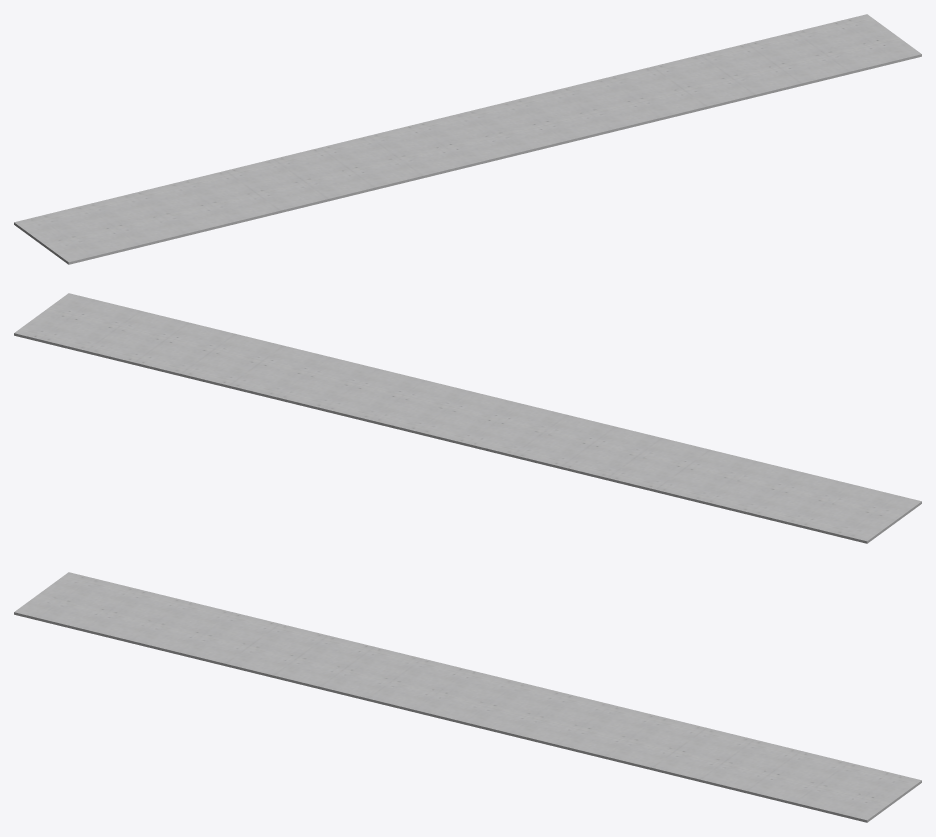
The model's file is tenzyou2.fbx.
The picture shows the model from 3 angles, top to bottom: view 1: azimuth 30°, elevation 25°; view 2: azimuth 150°, elevation 25°; view 3: azimuth 330°, elevation 25°; orthographic projection.
Parts seen in each view (by area): view 1: rouya_tenzyou; view 2: rouya_tenzyou; view 3: rouya_tenzyou.
Part boxes in pixels (bbox=[...]): rouya_tenzyou: bbox=[14, 14, 921, 264]; rouya_tenzyou: bbox=[14, 293, 921, 543]; rouya_tenzyou: bbox=[14, 572, 921, 822].
Bounding box in the file's own units: 35.99 × 0.1 × 4.
1 material, 1 textured.
